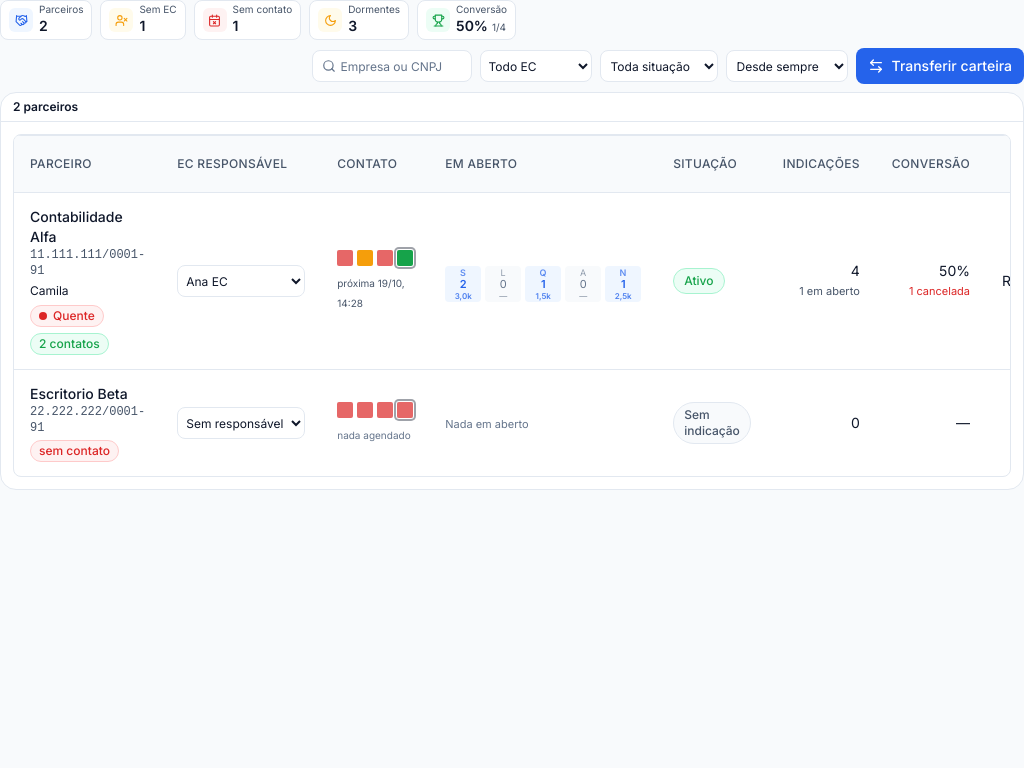
Test: Parceiros — o drilldown › clicar na linha abre o mesmo modal da oportunidade
The width and height of the screenshot is (1024, 768).
Click the text "Contabilidade Alfa" at point(76, 216), box x1=30 y1=208 x2=123 y2=245
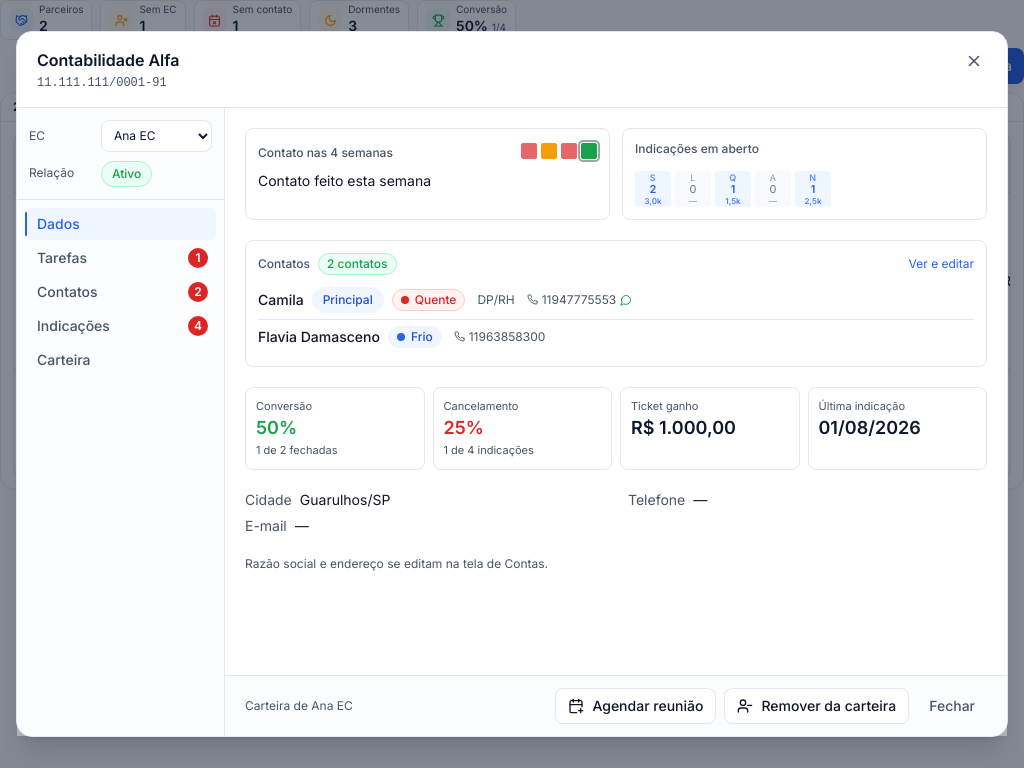
Expected: the heading "Contabilidade Alfa" is shown, x1=37 y1=50 x2=179 y2=70
Expected: the text "11.111.111/0001-91" is shown, x1=37 y1=76 x2=167 y2=90
